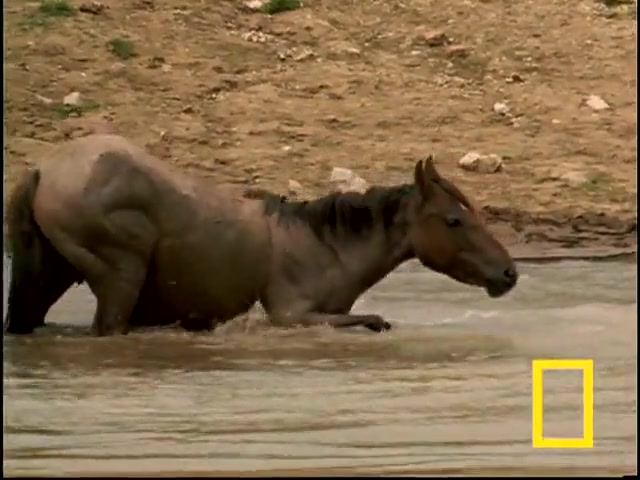horse: (2, 134, 520, 338)
